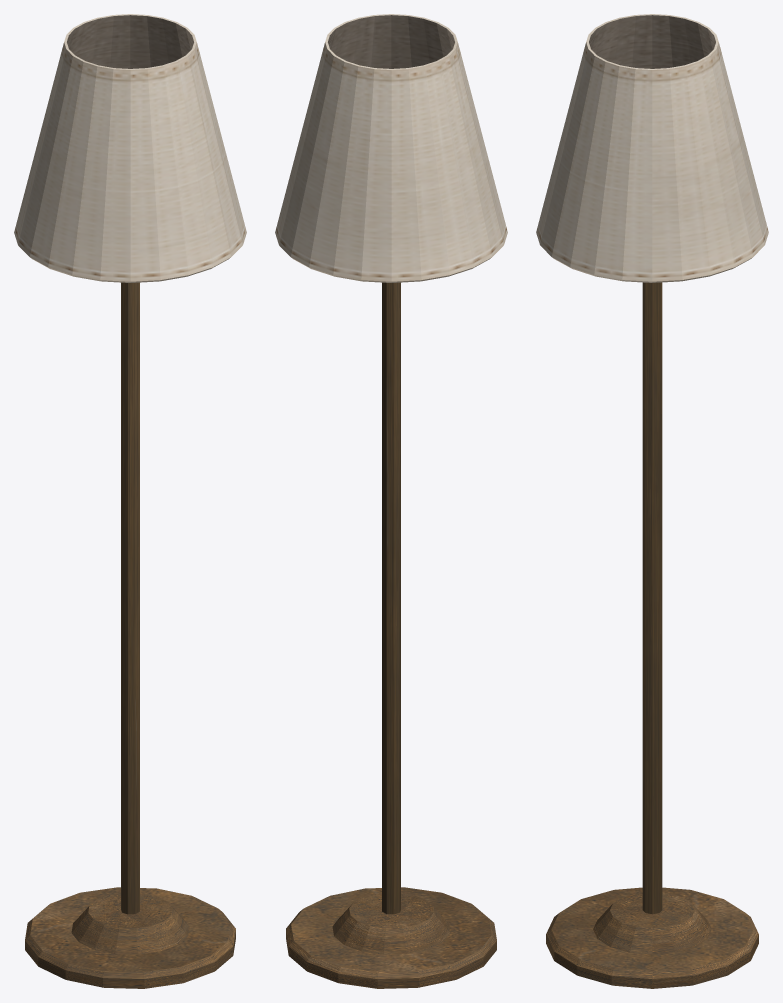
File: lamp.glb
3 views of the same model, side by side, from view 1: azimuth 30°, elevation 25°; view 2: azimuth 150°, elevation 25°; view 3: azimuth 270°, elevation 25° (orthographic).
Visible parts, largest first — view 1: core_lamp; view 2: core_lamp; view 3: core_lamp.
Boxes of the visible parts, left/top/right/bottom form: core_lamp: left=14, top=14, right=246, bottom=988; core_lamp: left=275, top=14, right=507, bottom=988; core_lamp: left=536, top=14, right=768, bottom=988.
Bounding box in the file's own units: 0.35 × 1.5 × 0.35.
1 material, 1 textured.
